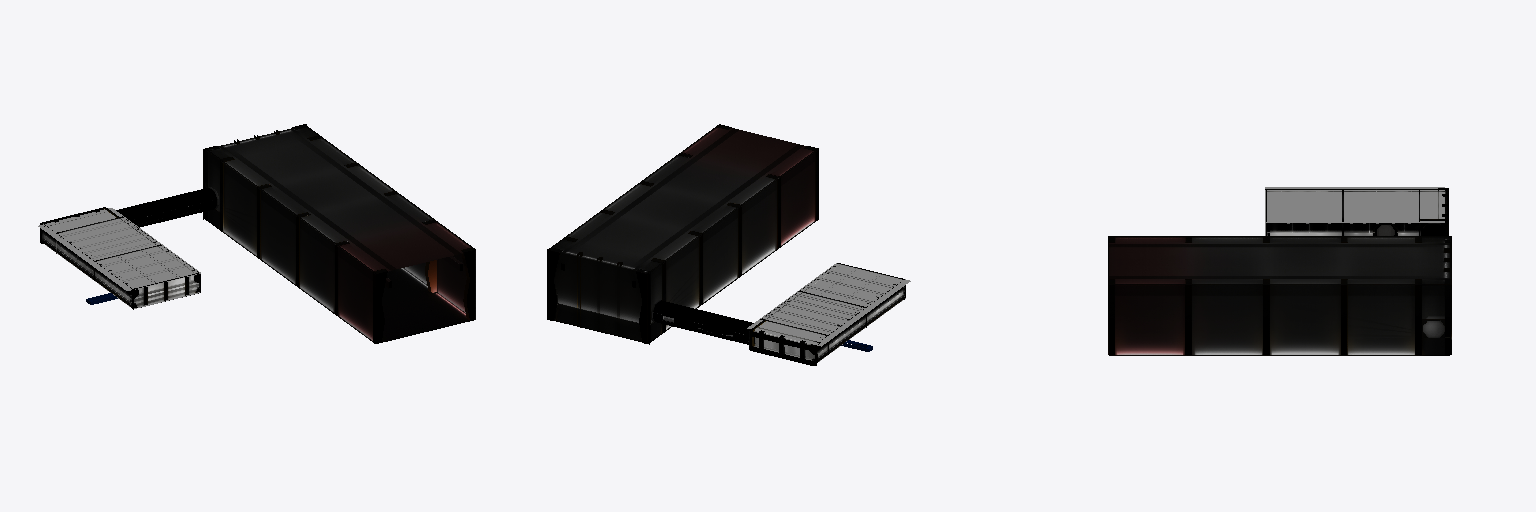
3 renders of one model, left to right at view 1: azimuth 30°, elevation 25°; view 2: azimuth 150°, elevation 25°; view 3: azimuth 270°, elevation 25°, orthographic.
Parts seen in each view (by area): view 1: Box19, Box06, Box18, Box10, Box17; view 2: Box19, Box06, Box18, Box10, Box17; view 3: Box19, Box06, Box17, Box10.
Boxes of the visible parts, x1=… form: Box19: x1=203, y1=124, x2=475, y2=343; Box06: x1=38, y1=208, x2=200, y2=308; Box18: x1=103, y1=188, x2=216, y2=227; Box10: x1=40, y1=208, x2=200, y2=308; Box17: x1=42, y1=216, x2=199, y2=309; Box19: x1=547, y1=124, x2=818, y2=344; Box06: x1=747, y1=263, x2=910, y2=361; Box18: x1=652, y1=300, x2=765, y2=350; Box10: x1=752, y1=263, x2=904, y2=365; Box17: x1=762, y1=264, x2=905, y2=361; Box19: x1=1108, y1=236, x2=1451, y2=355; Box06: x1=1265, y1=187, x2=1444, y2=235; Box17: x1=1265, y1=189, x2=1445, y2=235; Box10: x1=1266, y1=188, x2=1448, y2=235.
Bounding box in the file's own units: 40.35 × 10.87 × 44.05.
7 materials, 4 textured.